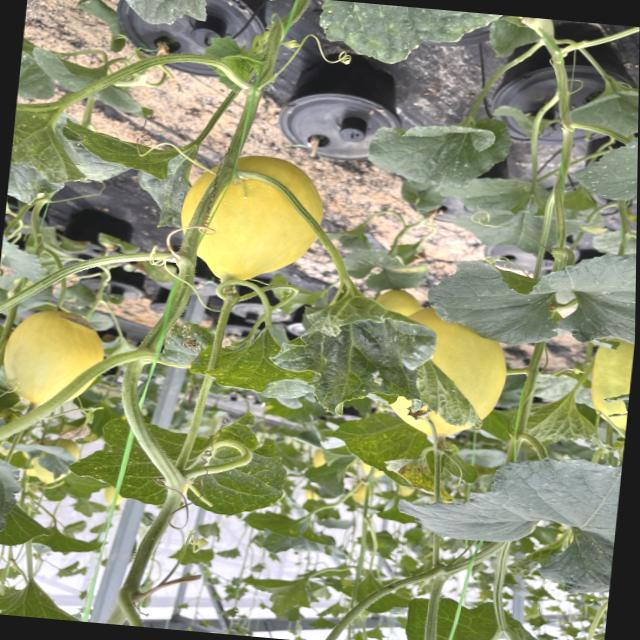CMV: (6, 104, 96, 210)
SLCV: (260, 278, 443, 422), (410, 361, 495, 430)
alternaria leaf blight: (387, 452, 443, 492)
downy mildew: (442, 233, 637, 355), (303, 0, 518, 75), (71, 127, 198, 225), (185, 324, 324, 406)
healthy: (393, 440, 622, 596), (404, 595, 552, 640), (0, 467, 60, 557)
powdery mildew: (269, 288, 437, 419), (73, 0, 209, 28)
